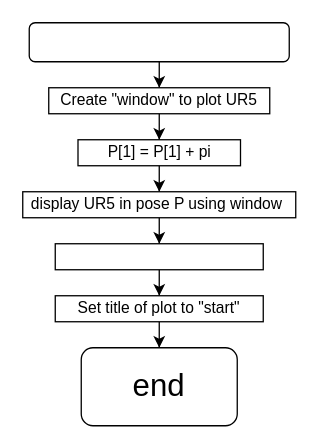
Some shapes in this 319 by 448 pixel diagram are drawn without their labels. Each missing label, with the centre of its shape:
"Set 3D view angle of window" goes at (158,256).
"spot(P)" goes at (158,41).
